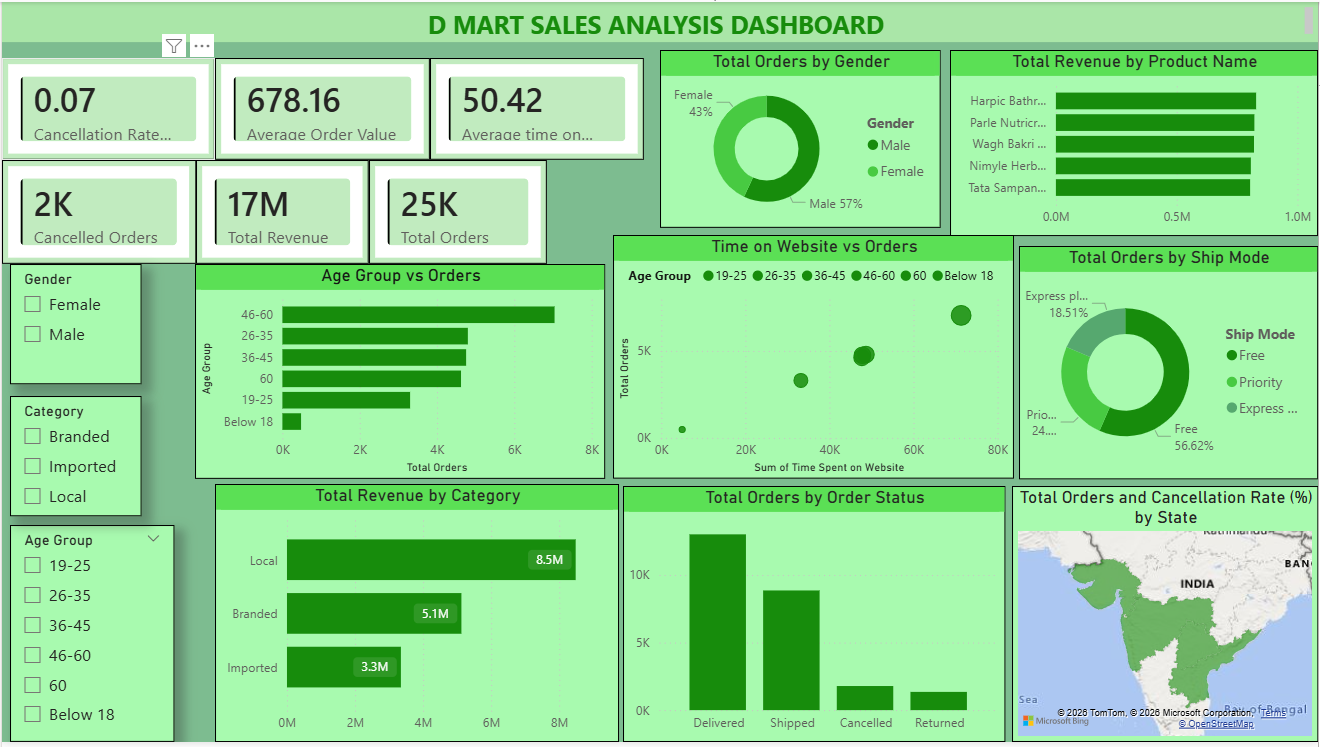

What the dashboard file says about the page in this screenshot:
{"tool":"powerbi","page":{"name":"Dashboard ","canvas":[1280,720],"ordinal":4},"visuals":[{"type":"textbox","box":[0,0,1280,38.9],"z":0},{"type":"filledMap","fields":{"Category":["Dmart+Dataset_Powerbi.State"]},"box":[982.4,470.8,297.6,249],"z":1},{"type":"columnChart","fields":{"Category":["Dmart+Dataset_Powerbi.Order Status"],"Y":["Dmart+Dataset_Powerbi.Total Orders"]},"box":[604,470.8,371.6,249],"z":2},{"type":"donutChart","fields":{"Category":["Dmart+Dataset_Powerbi.Ship Mode"],"Y":["Dmart+Dataset_Powerbi.Total Orders"]},"box":[989.2,237.3,290.8,226.6],"z":3},{"type":"clusteredBarChart","fields":{"Category":["Dmart+Dataset_Powerbi.Category"],"Y":["Dmart+Dataset_Powerbi.Total Revenue"]},"box":[207.2,468.8,392.9,250.9],"z":5},{"type":"barChart","fields":{"Category":["Dmart+Dataset_Powerbi.Product Name"],"Y":["Dmart+Dataset_Powerbi.Total Revenue"]},"box":[922.1,46.7,357.9,180.9],"z":6},{"type":"slicer","fields":{"Values":["Dmart+Dataset_Powerbi.Age Group "]},"box":[7.8,508.7,159.5,211.1],"z":8},{"type":"scatterChart","title":"Time on Website vs Orders","fields":{"X":["Sum(Dmart+Dataset_Powerbi.Time Spent on Website)"],"Y":["Dmart+Dataset_Powerbi.Total Orders"],"Series":["Dmart+Dataset_Powerbi.Age Group "],"Size":["Dmart+Dataset_Powerbi.Total Revenue"]},"box":[594.3,226.6,390,237.3],"z":9},{"type":"clusteredBarChart","title":"Age Group vs Orders","fields":{"Category":["Dmart+Dataset_Powerbi.Age Group "],"Y":["Dmart+Dataset_Powerbi.Total Orders"]},"box":[187.7,254.8,398.8,209.1],"z":10},{"type":"donutChart","fields":{"Category":["Dmart+Dataset_Powerbi.Gender"],"Y":["Dmart+Dataset_Powerbi.Total Orders"]},"box":[640,46.7,273.3,173.1],"z":11},{"type":"cardVisual","fields":{"Data":["Dmart+Dataset_Powerbi.Cancellation Rate (%)"]},"box":[0,54.5,207.2,99.2],"z":12},{"type":"cardVisual","fields":{"Data":["Dmart+Dataset_Powerbi.Average Order Value"]},"box":[207.2,54.5,209.1,99.2],"z":13},{"type":"cardVisual","fields":{"Data":["Dmart+Dataset_Powerbi.Average time on website"]},"box":[416.3,54.5,208.1,99.2],"z":14},{"type":"cardVisual","fields":{"Data":["Dmart+Dataset_Powerbi.Cancelled Orders"]},"box":[0,153.7,188.7,101.2],"z":15},{"type":"cardVisual","fields":{"Data":["Dmart+Dataset_Powerbi.Total Revenue"]},"box":[188.7,153.7,168.3,101.2],"z":16},{"type":"cardVisual","fields":{"Data":["Dmart+Dataset_Powerbi.Total Orders"]},"box":[357,153.7,173.1,101.2],"z":17},{"type":"slicer","fields":{"Values":["Dmart+Dataset_Powerbi.Gender"]},"box":[7.8,254.8,128.4,116.7],"z":18},{"type":"slicer","fields":{"Values":["Dmart+Dataset_Powerbi.Category"]},"box":[7.8,383.2,128.4,116.7],"z":19}]}

Visuals, with their boxes in screenshot pixels (x1, y1, x2, y2), scaled from the page's 1280x720 canvas onto the 1320x747 screenshot:
textbox: locate(0, 0, 1319, 40)
filledMap - Dmart+Dataset_Powerbi.State: locate(1013, 488, 1319, 746)
columnChart - Dmart+Dataset_Powerbi.Order Status x Dmart+Dataset_Powerbi.Total Orders: locate(623, 488, 1006, 746)
donutChart - Dmart+Dataset_Powerbi.Ship Mode x Dmart+Dataset_Powerbi.Total Orders: locate(1020, 246, 1319, 481)
clusteredBarChart - Dmart+Dataset_Powerbi.Category x Dmart+Dataset_Powerbi.Total Revenue: locate(214, 486, 619, 746)
barChart - Dmart+Dataset_Powerbi.Product Name x Dmart+Dataset_Powerbi.Total Revenue: locate(951, 48, 1319, 236)
slicer - Dmart+Dataset_Powerbi.Age Group : locate(8, 528, 173, 746)
"Time on Website vs Orders" scatterChart: locate(613, 235, 1015, 481)
"Age Group vs Orders" clusteredBarChart: locate(194, 264, 605, 481)
donutChart - Dmart+Dataset_Powerbi.Gender x Dmart+Dataset_Powerbi.Total Orders: locate(660, 48, 942, 228)
cardVisual - Dmart+Dataset_Powerbi.Cancellation Rate (%): locate(0, 57, 214, 159)
cardVisual - Dmart+Dataset_Powerbi.Average Order Value: locate(214, 57, 429, 159)
cardVisual - Dmart+Dataset_Powerbi.Average time on website: locate(429, 57, 644, 159)
cardVisual - Dmart+Dataset_Powerbi.Cancelled Orders: locate(0, 159, 195, 264)
cardVisual - Dmart+Dataset_Powerbi.Total Revenue: locate(195, 159, 368, 264)
cardVisual - Dmart+Dataset_Powerbi.Total Orders: locate(368, 159, 547, 264)
slicer - Dmart+Dataset_Powerbi.Gender: locate(8, 264, 140, 385)
slicer - Dmart+Dataset_Powerbi.Category: locate(8, 398, 140, 519)
